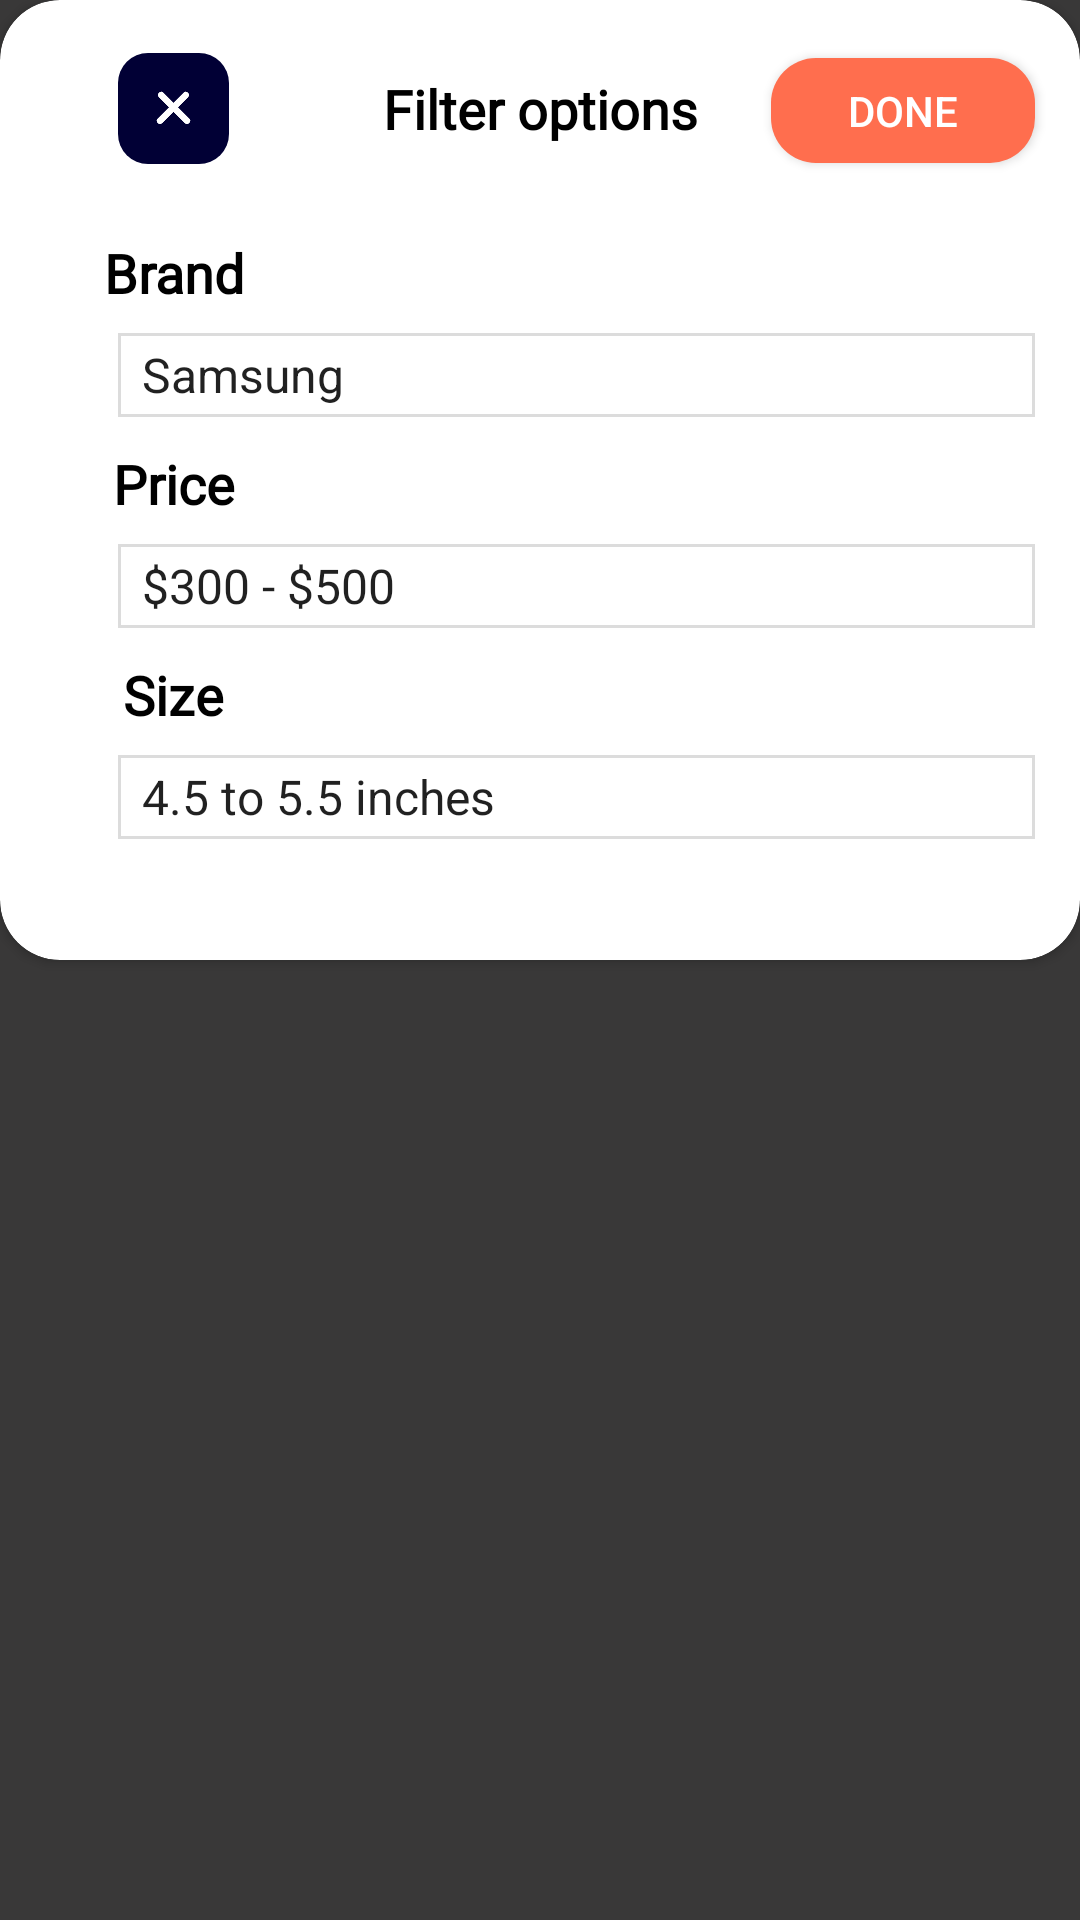

Icon click points for this 1080*1920 phone screenshot, format [x,y]:
close: [173,108]
